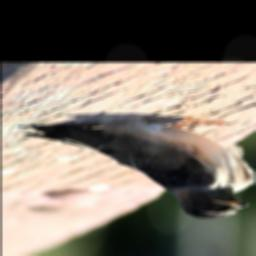Swallow: (21, 116, 256, 220)
